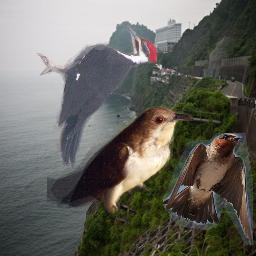Cuckoo: (47, 106, 195, 214)
Swallow: (163, 133, 253, 245)
Woodpecker: (36, 25, 160, 169)
